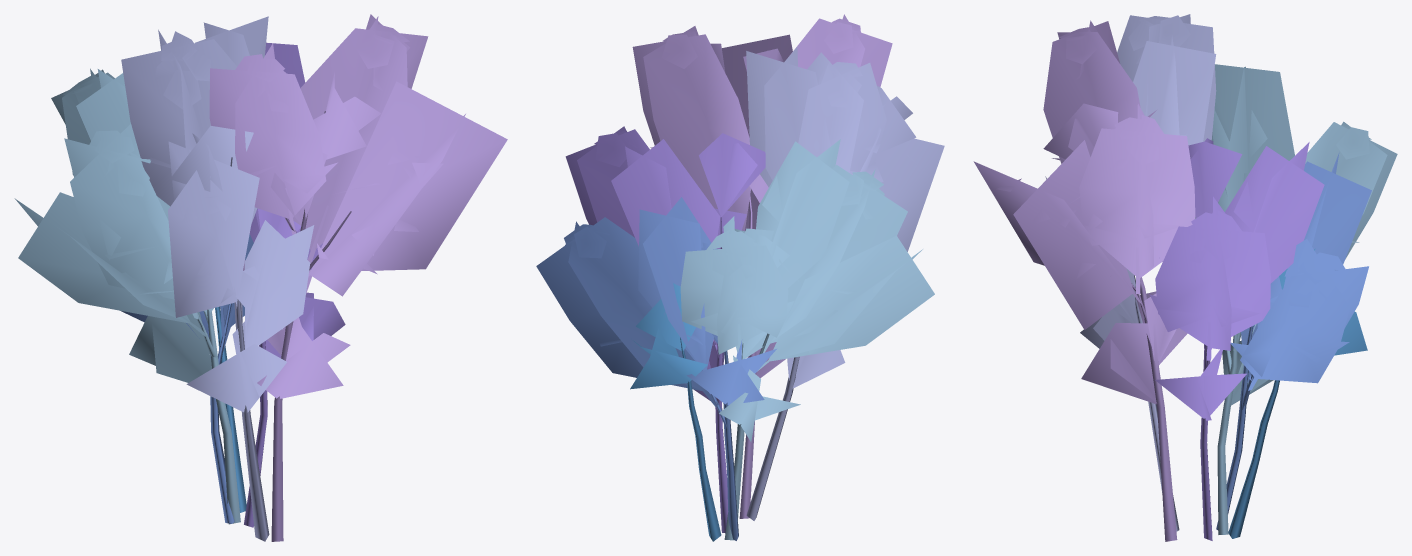
3 renders of one model, left to right at view 1: azimuth 30°, elevation 25°; view 2: azimuth 150°, elevation 25°; view 3: azimuth 270°, elevation 25°, orthographic. The views are drawn at different scales.
Parts seen in each view (by area): view 1: SM_BS_Oleander_120cm_HD; view 2: SM_BS_Oleander_120cm_HD; view 3: SM_BS_Oleander_120cm_HD.
Part boxes in pixels (x1,y1,x2,y2): SM_BS_Oleander_120cm_HD: (14, 14, 507, 541); SM_BS_Oleander_120cm_HD: (536, 14, 944, 541); SM_BS_Oleander_120cm_HD: (973, 14, 1397, 541).
Bounding box in the file's own units: 24.09 × 24.12 × 30.64.
